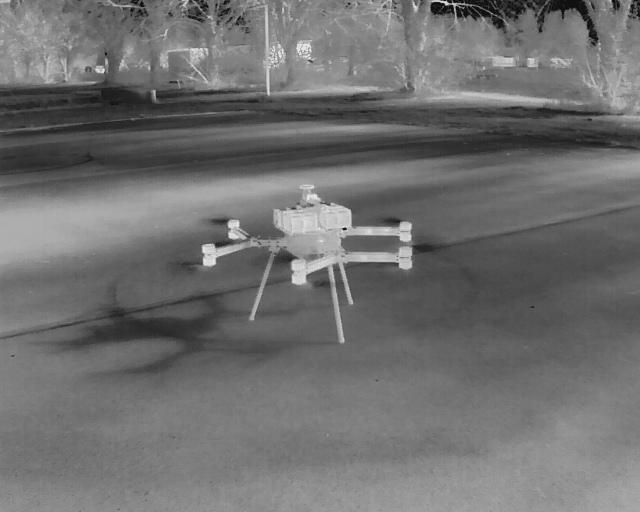drone: (198, 181, 415, 350)
